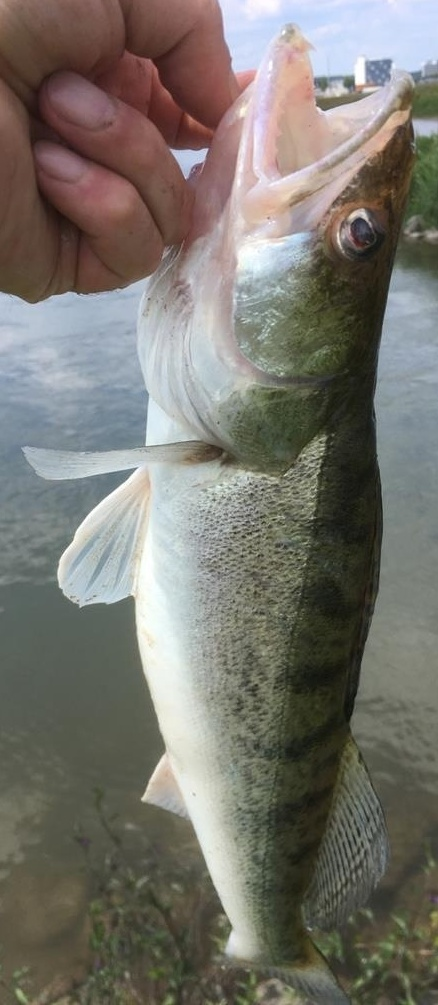Sander lucioperca: (20, 20, 418, 1005)
